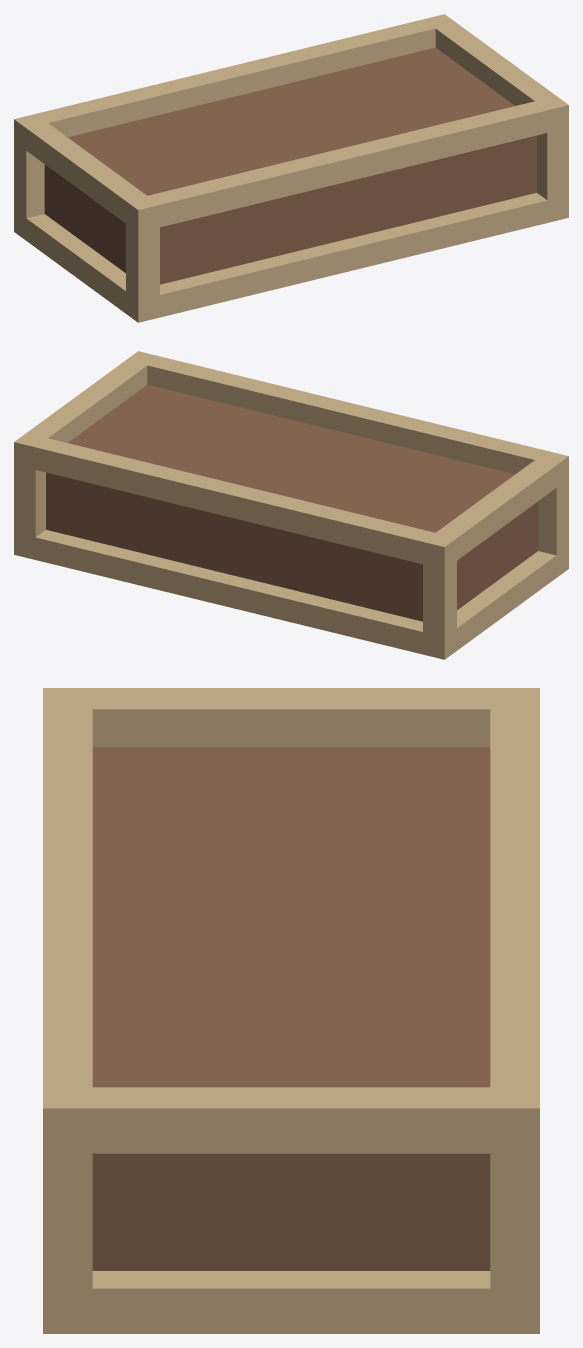
File: Crate5.fbx
The picture shows the model from 3 angles, top to bottom: view 1: azimuth 30°, elevation 25°; view 2: azimuth 150°, elevation 25°; view 3: azimuth 270°, elevation 25°; orthographic projection. The views are drawn at different scales.
Parts seen in each view (by area): view 1: Cube; view 2: Cube; view 3: Cube.
Part boxes in pixels (x1=…): Cube: x1=14, y1=14, x2=568, y2=322; Cube: x1=14, y1=351, x2=568, y2=659; Cube: x1=43, y1=688, x2=539, y2=1333.
Size of the model in its own units: 2 by 0.5 by 1.
